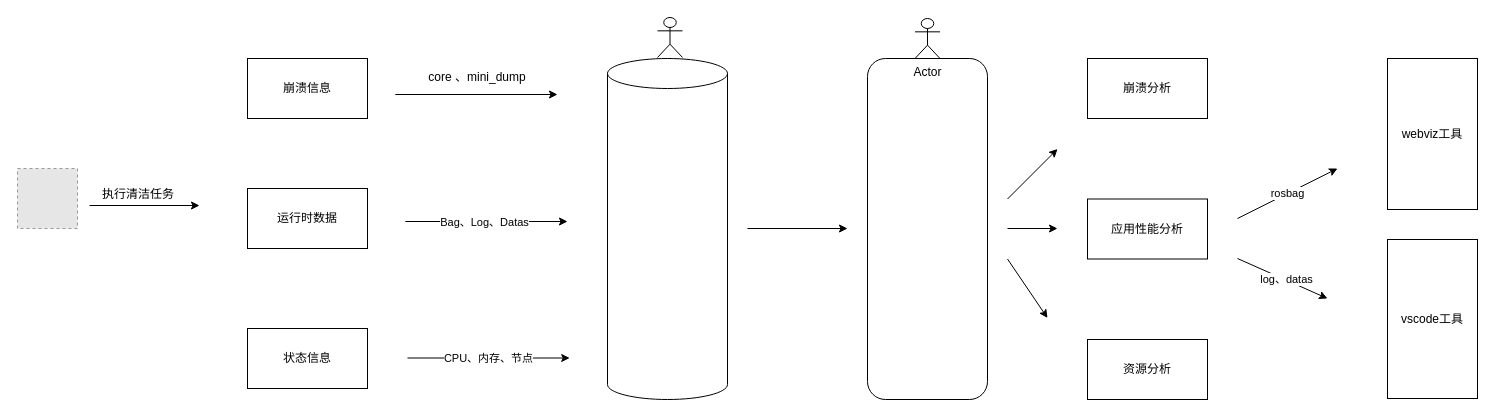
Image size: 1495x417. Some labels were removed from this diagram. Grey dashed boxes stand in for pictures. Here are the shapes that lost their labels. From the top down, the box of each, then its label:
(606, 58, 728, 400): Aiot平台
(866, 58, 988, 400): APM平台
